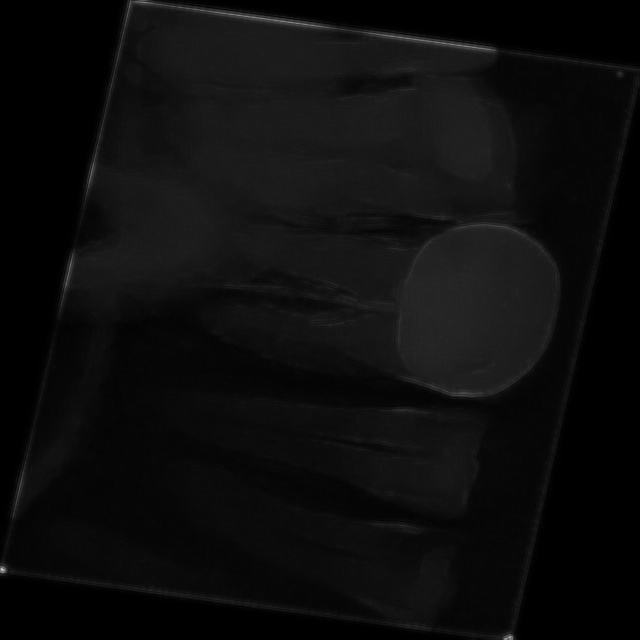Class 2- incomplete endodontic treatment: (124, 179, 580, 420)
